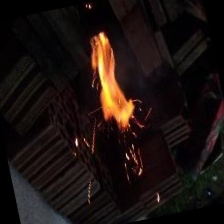fire: (72, 30, 151, 161)
